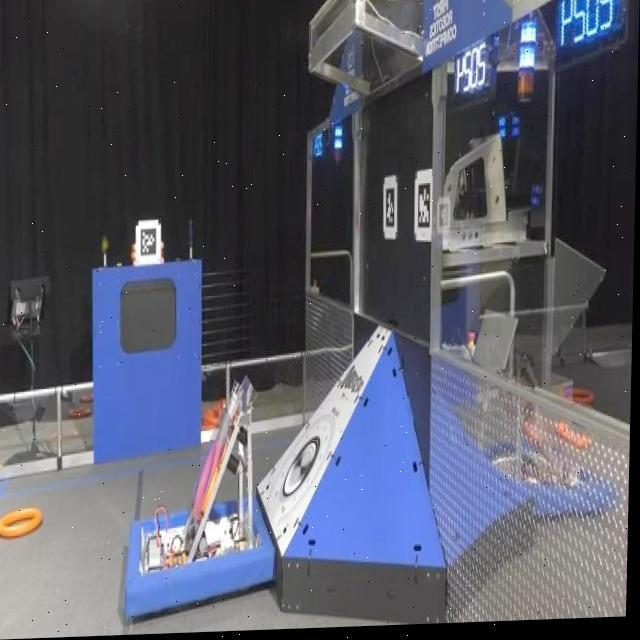robot: (122, 378, 277, 624)
